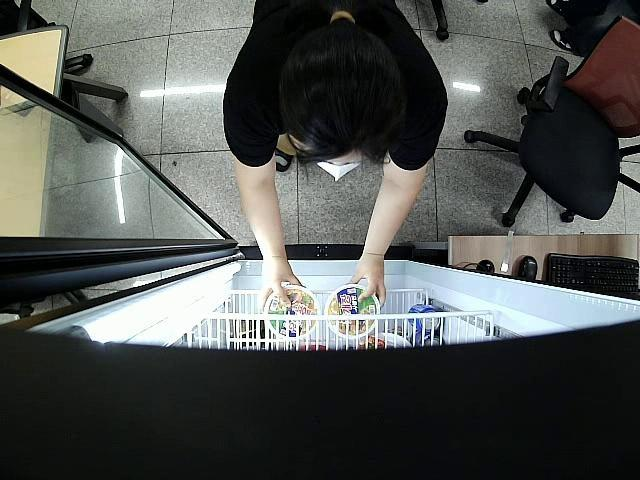09_yukGaeJang: (324, 284, 380, 340), (264, 286, 318, 338)
